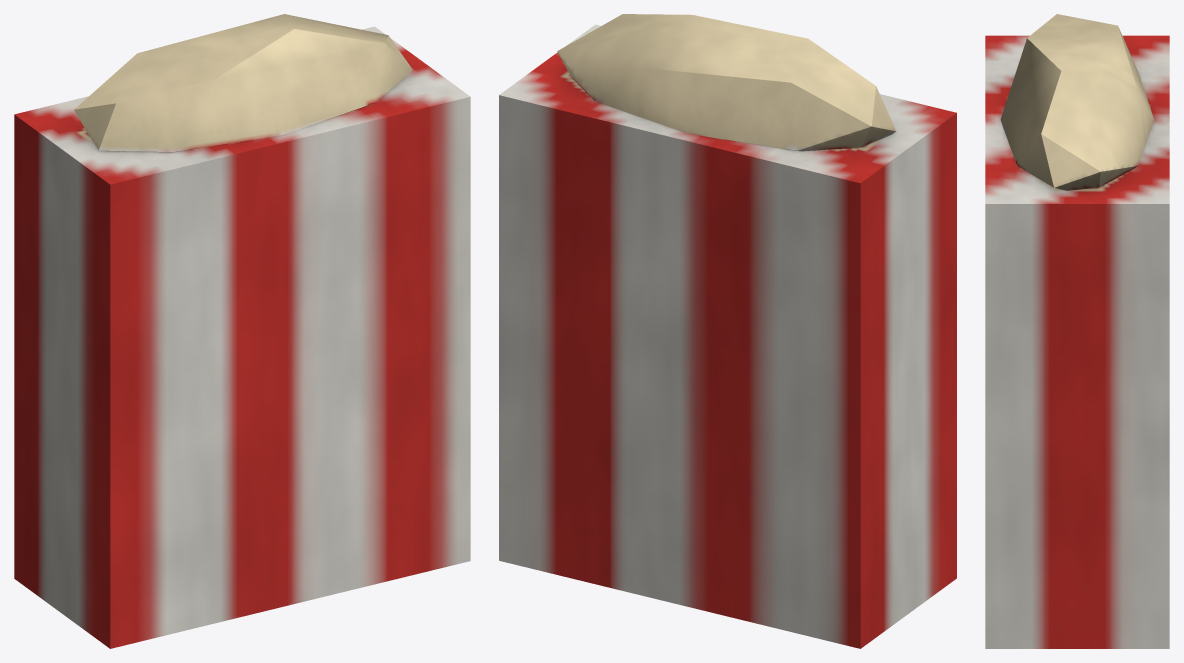
Rendered from Item_Popcorn.fbx.
3 views of the same model, side by side, from view 1: azimuth 30°, elevation 25°; view 2: azimuth 150°, elevation 25°; view 3: azimuth 270°, elevation 25° (orthographic). The views are drawn at different scales.
Parts seen in each view (by area): view 1: Item_Popcorn; view 2: Item_Popcorn; view 3: Item_Popcorn.
Part boxes in pixels (left/top/right/bottom): Item_Popcorn: left=14, top=14, right=470, bottom=648; Item_Popcorn: left=499, top=14, right=956, bottom=648; Item_Popcorn: left=985, top=14, right=1169, bottom=648.
Bounding box in the file's own units: 0.26 × 0.3697 × 0.12.
Materials: 1 (1 with a texture image).
